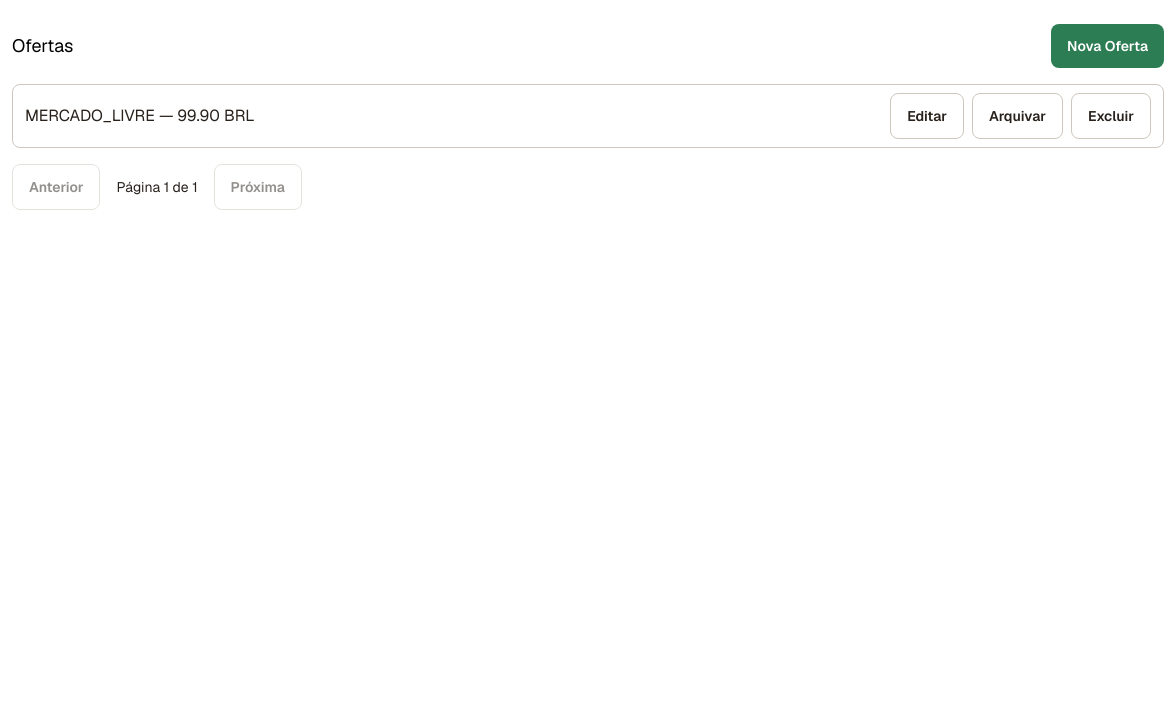
OfferSection › editar Oferta: alterna pra formulário inline, submit válido atualiza local sem nova busca da lista
Expected: the text "MERCADO_LIVRE — 99.90 BRL" is shown, [25,104,254,128]
Click the button "Editar".
click(927, 116)  # box [890,93,964,139]
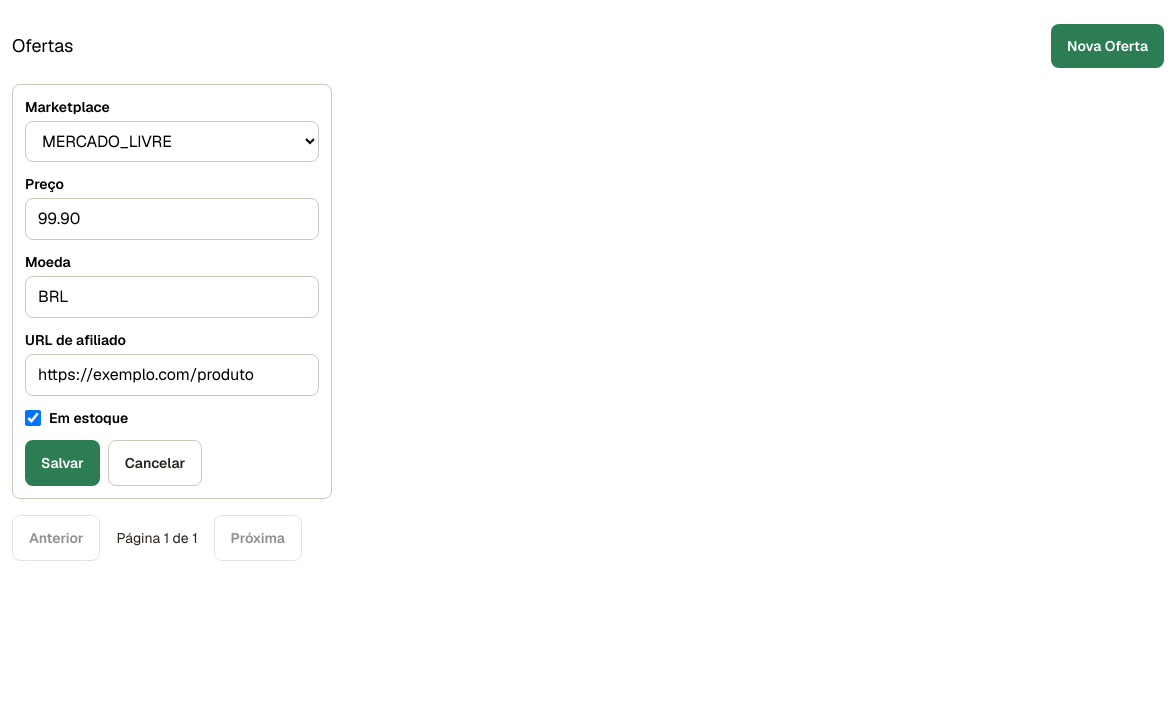
Replace the text in the field labelled "Preço" with "199.90" at (172, 219), box [25,198,319,240]
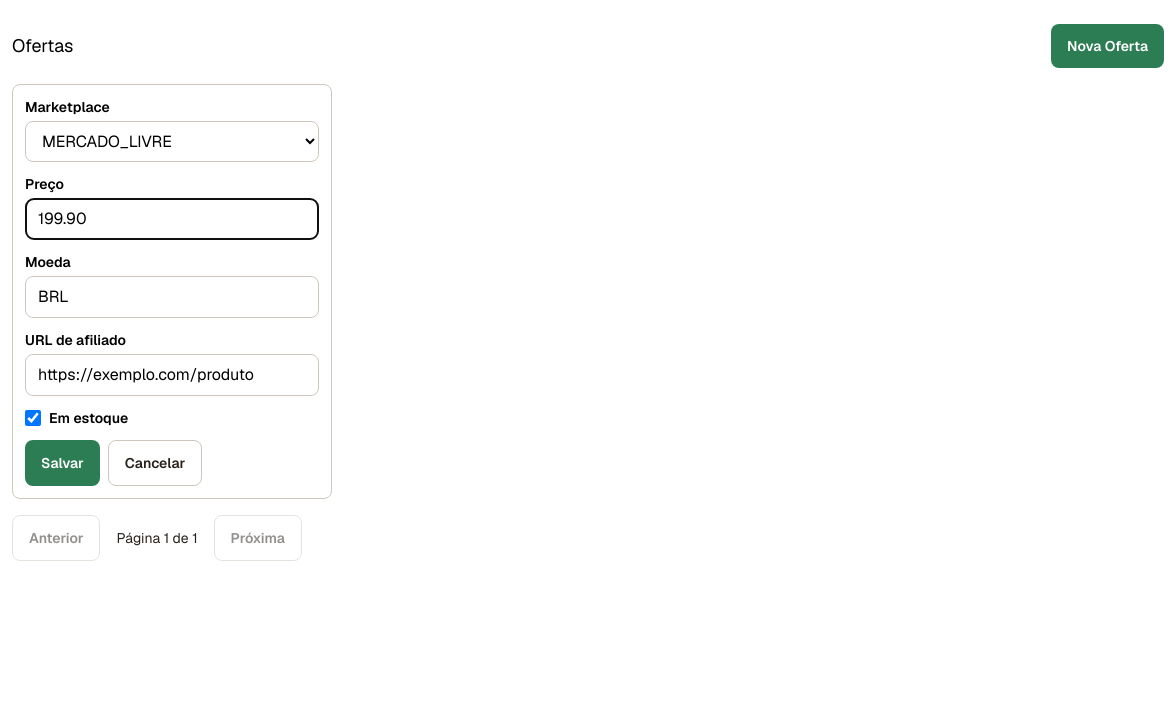
Click the button "Salvar".
click(62, 463)  # box [25,440,100,486]
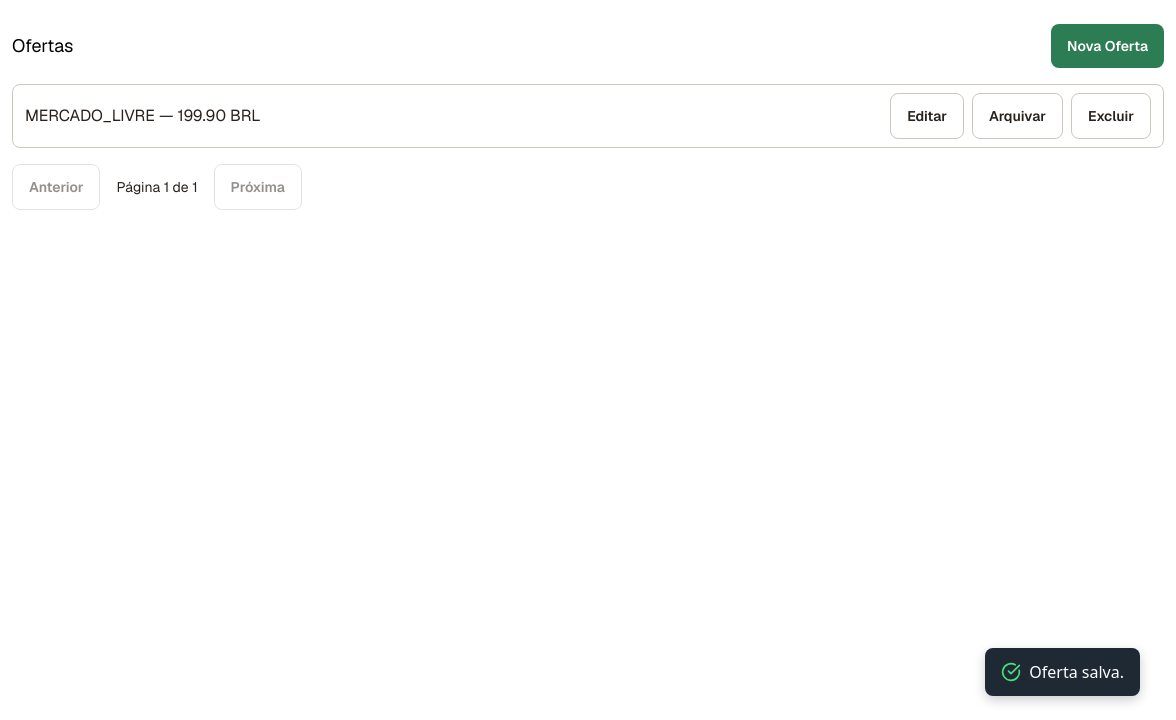
Result: the text "MERCADO_LIVRE — 199.90 BRL" is shown at [25,104,261,128]
